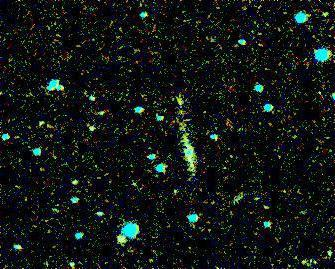star: (106, 227, 136, 257)
